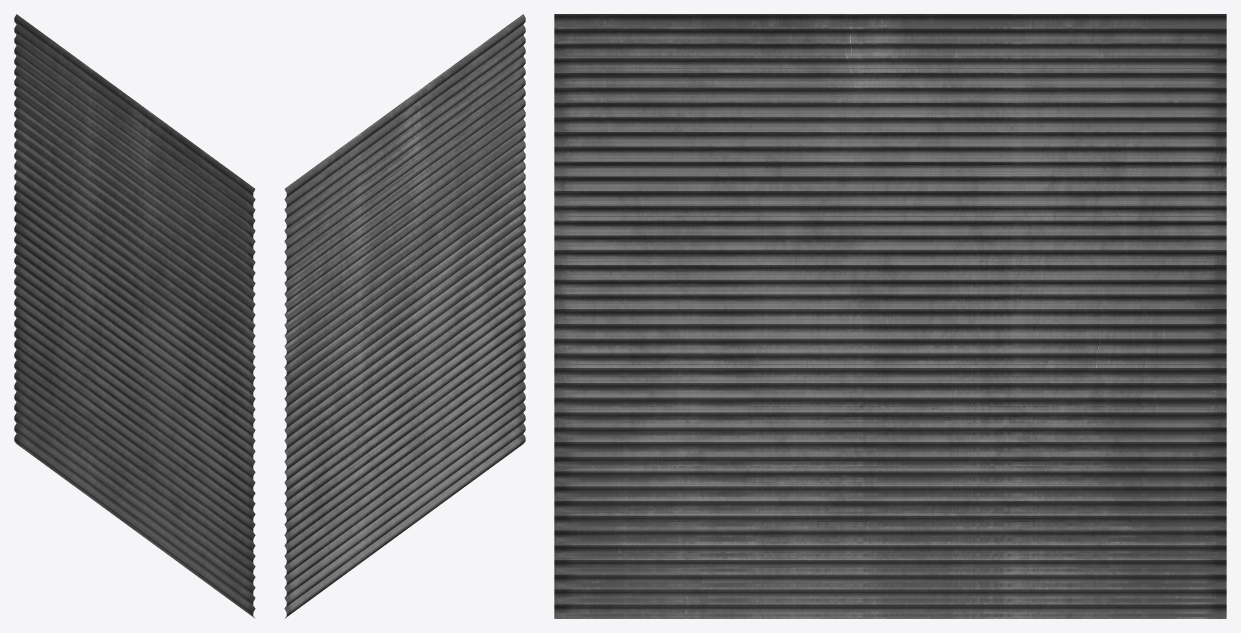
File: SM_Shutter_01.fbx
3 views of the same model, side by side, from view 1: azimuth 30°, elevation 25°; view 2: azimuth 150°, elevation 25°; view 3: azimuth 270°, elevation 25° (orthographic). The views are drawn at different scales.
Visible parts, largest first — view 1: SM_Shutter_01_LOD0; view 2: SM_Shutter_01_LOD0; view 3: SM_Shutter_01_LOD0.
Boxes of the visible parts, x1,y1,x2,y2 form: SM_Shutter_01_LOD0: [14, 14, 255, 618]; SM_Shutter_01_LOD0: [284, 14, 525, 618]; SM_Shutter_01_LOD0: [554, 14, 1226, 618].
Bounding box in the file's own units: 1.6 × 303 × 301.
